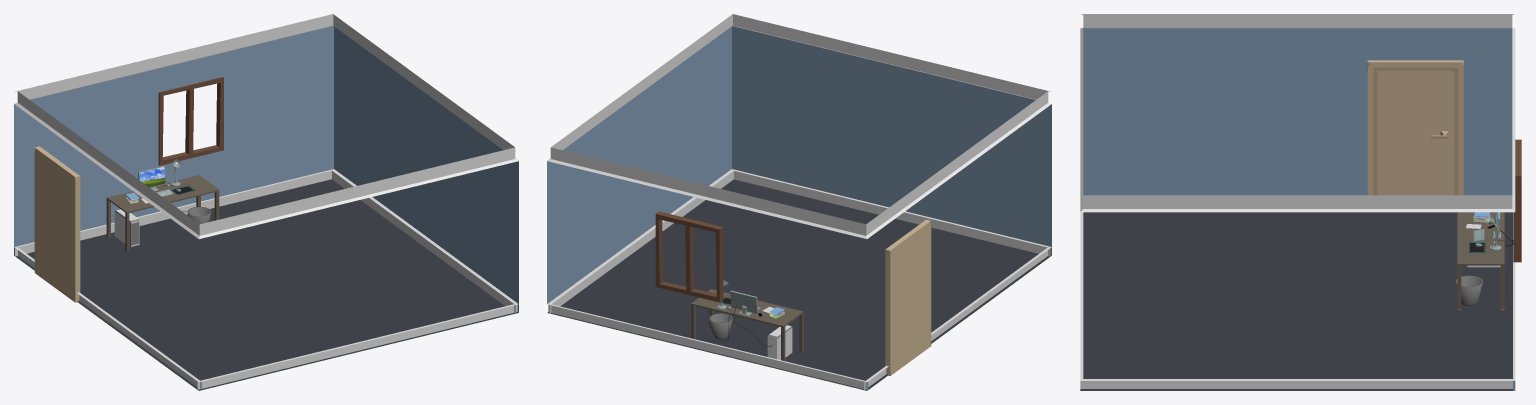
File: computerCombined.glb
3 renders of one model, left to right at view 1: azimuth 30°, elevation 25°; view 2: azimuth 150°, elevation 25°; view 3: azimuth 270°, elevation 25°, orthographic. The views are drawn at different scales.
Visible parts, largest first — view 1: room, desk, pc tower, screen; view 2: room, desk, pc tower, screen, bin; view 3: room, desk, bin.
Part boxes in pixels (x1,y1,x2,y2): room: [14, 14, 518, 390]; desk: [106, 175, 219, 250]; pc tower: [114, 209, 139, 247]; screen: [138, 165, 166, 190]; room: [547, 14, 1051, 390]; desk: [691, 289, 803, 361]; pc tower: [767, 325, 792, 360]; screen: [730, 290, 758, 315]; bin: [709, 313, 732, 339]; room: [1080, 14, 1521, 390]; desk: [1457, 212, 1504, 310]; bin: [1455, 275, 1482, 306].
Size of the model in its own units: 9.22 by 4.55 by 9.32.
31 materials, 1 textured.
